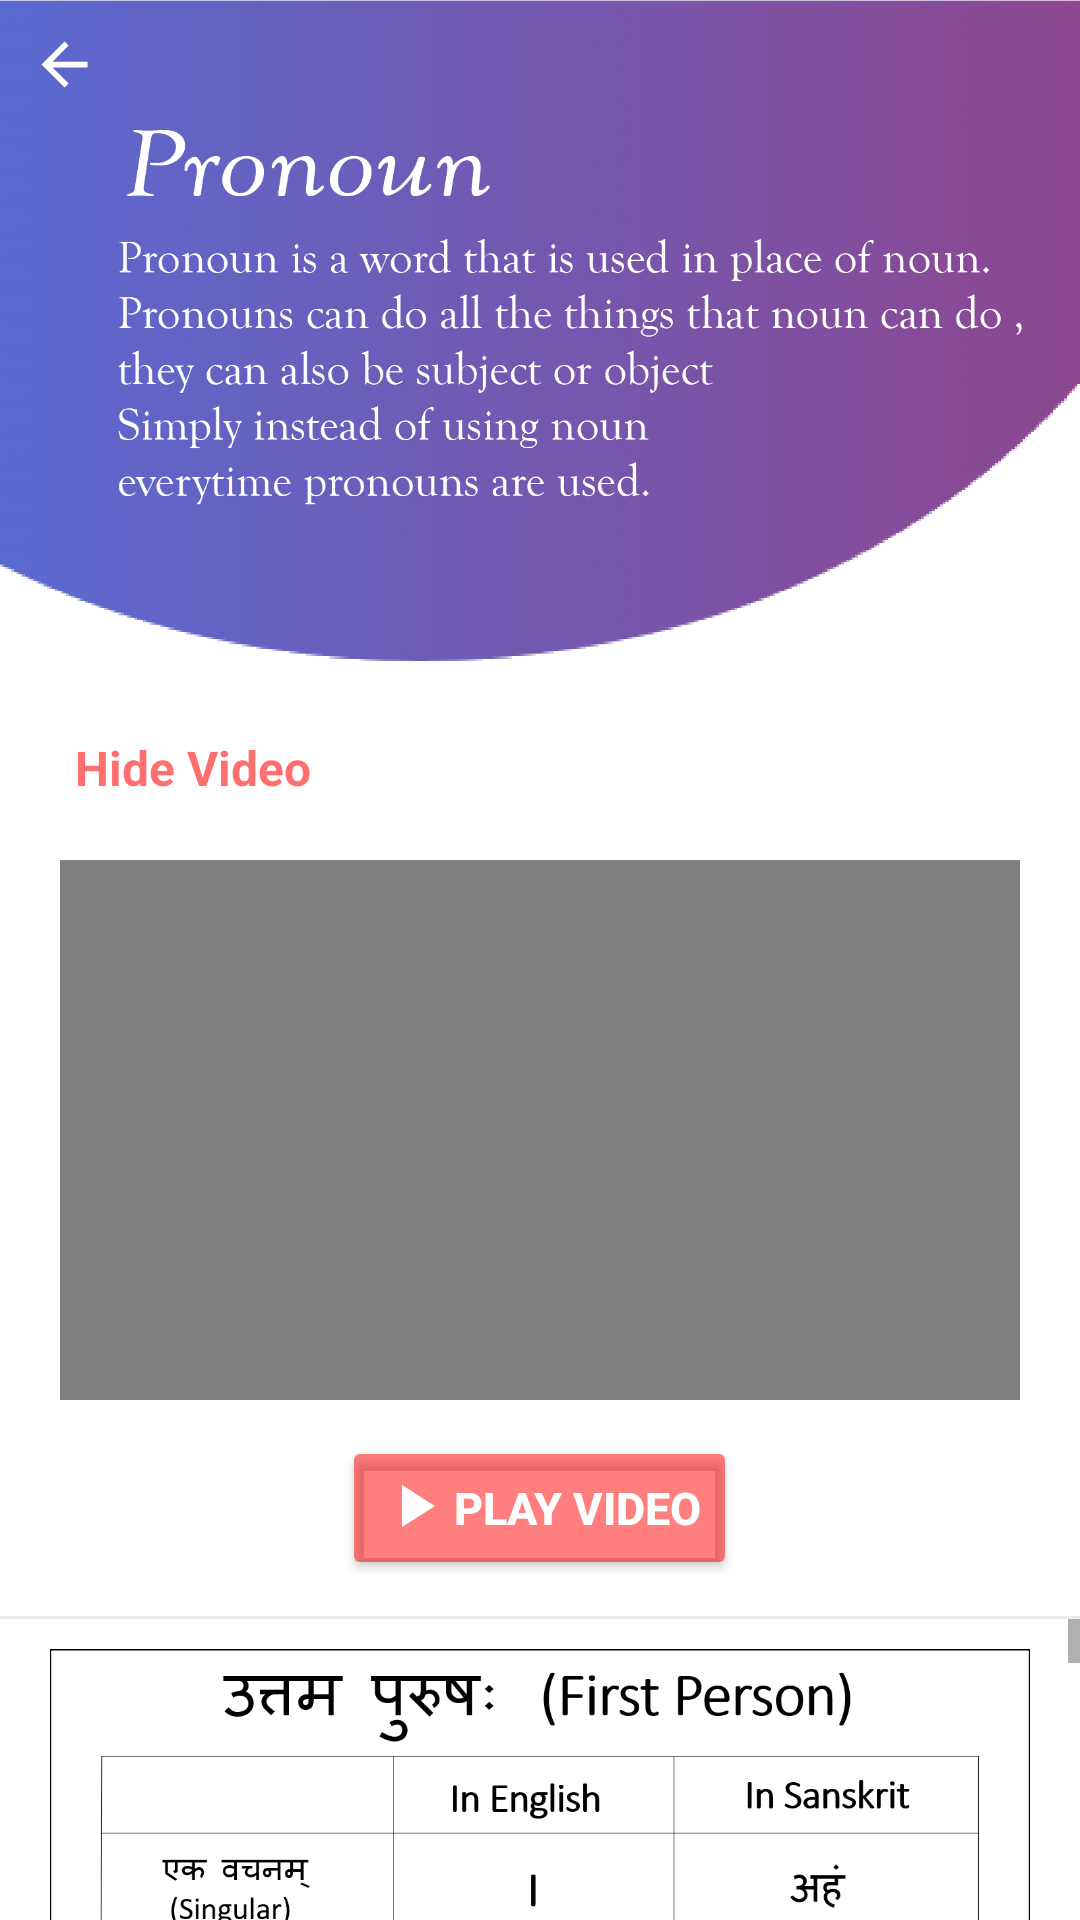

Icon click points for this 1080x1920 phone screenshot, format point (x, y):
arrow: point (64, 64)
